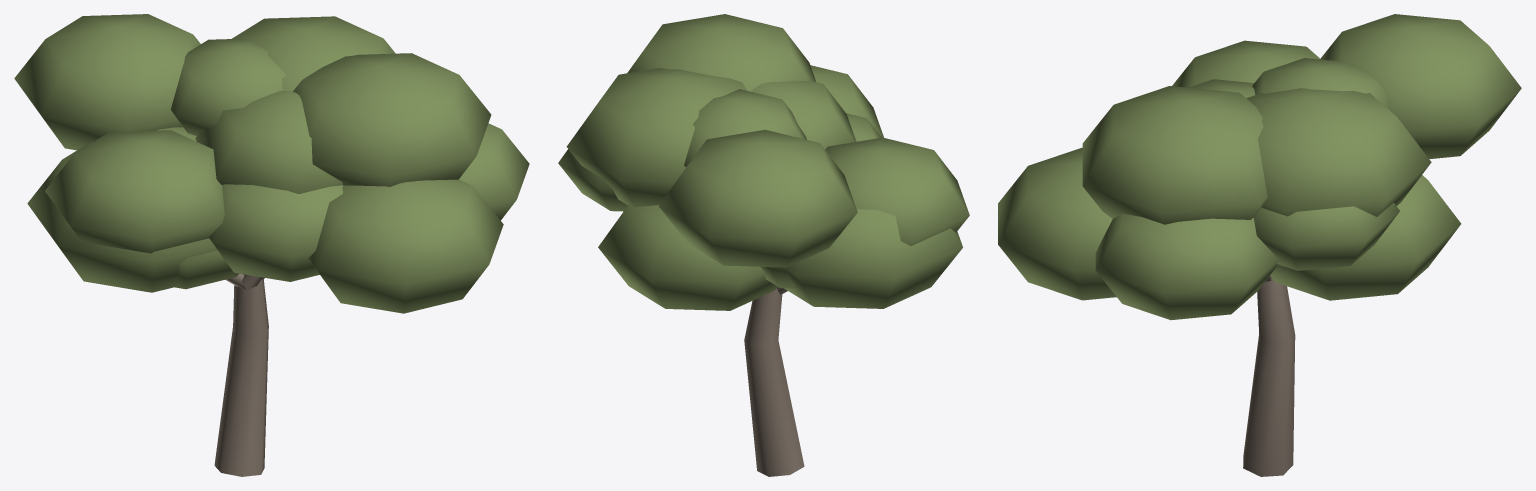
Rendered from SM_SidrTree.fbx.
3 views of the same model, side by side, from view 1: azimuth 30°, elevation 25°; view 2: azimuth 150°, elevation 25°; view 3: azimuth 270°, elevation 25° (orthographic). The views are drawn at different scales.
Parts seen in each view (by area): view 1: SM_SidrTree; view 2: SM_SidrTree; view 3: SM_SidrTree.
Boxes of the visible parts, x1,y1,x2,y2 form: SM_SidrTree: (14, 14, 529, 476); SM_SidrTree: (558, 14, 969, 476); SM_SidrTree: (998, 14, 1521, 476).
Bounding box in the file's own units: 533 × 489 × 556.
